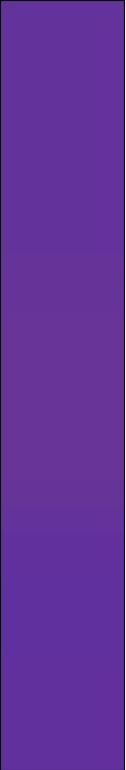safe: (15, 15, 110, 759)
